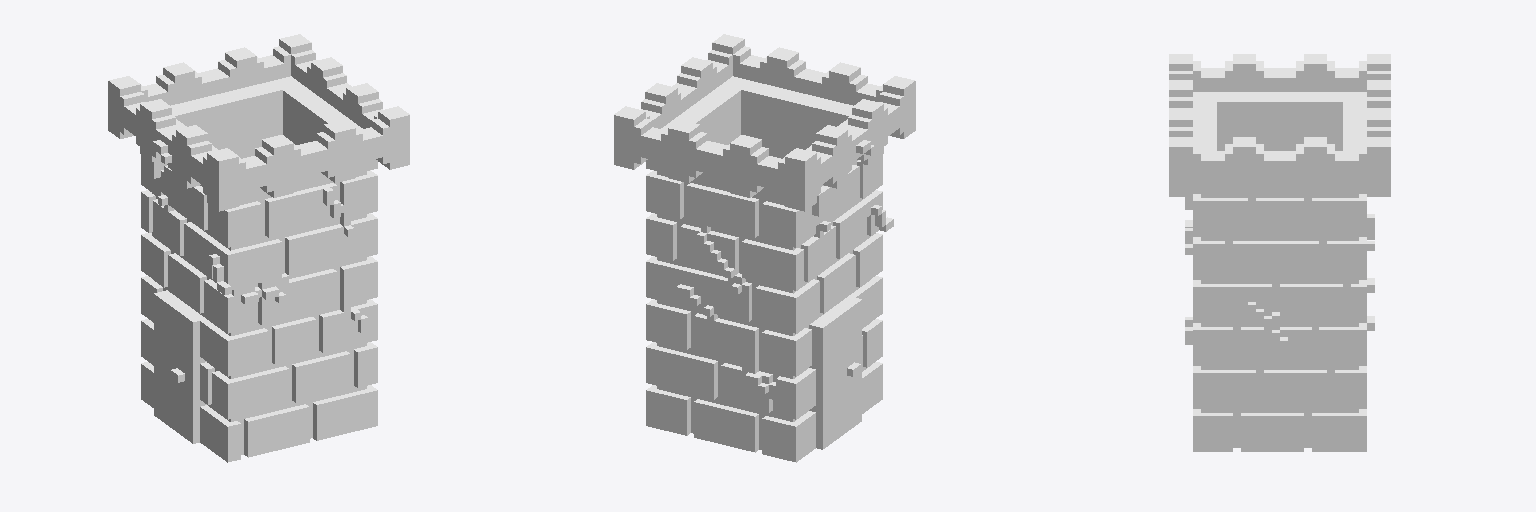
Rendered from vibeTower.obj.
3 renders of one model, left to right at view 1: azimuth 30°, elevation 25°; view 2: azimuth 150°, elevation 25°; view 3: azimuth 270°, elevation 25°, orthographic.
Parts seen in each view (by area): view 1: object 1; view 2: object 1; view 3: object 1.
Boxes of the visible parts, x1=… form: object 1: x1=108, y1=34, x2=409, y2=462; object 1: x1=614, y1=34, x2=915, y2=462; object 1: x1=1169, y1=54, x2=1390, y2=451.
Size of the model in its own units: 2.9 by 4.4 by 2.8.